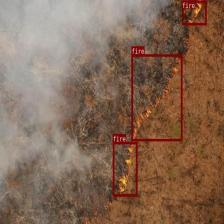fire: (131, 54, 182, 141), (113, 142, 138, 196), (182, 0, 206, 25)
